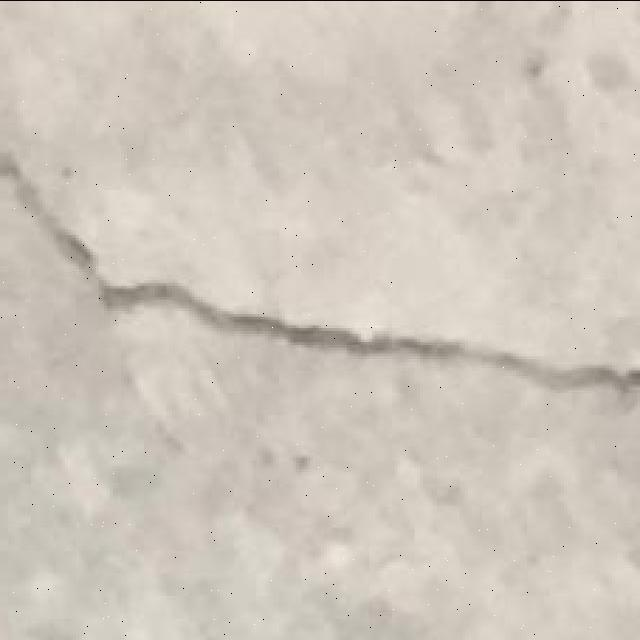crack: (1, 149, 638, 397), (4, 131, 219, 303), (214, 81, 364, 200), (41, 218, 97, 274), (22, 566, 70, 611), (531, 5, 580, 46), (24, 620, 82, 640), (417, 145, 454, 171), (324, 521, 358, 546)
